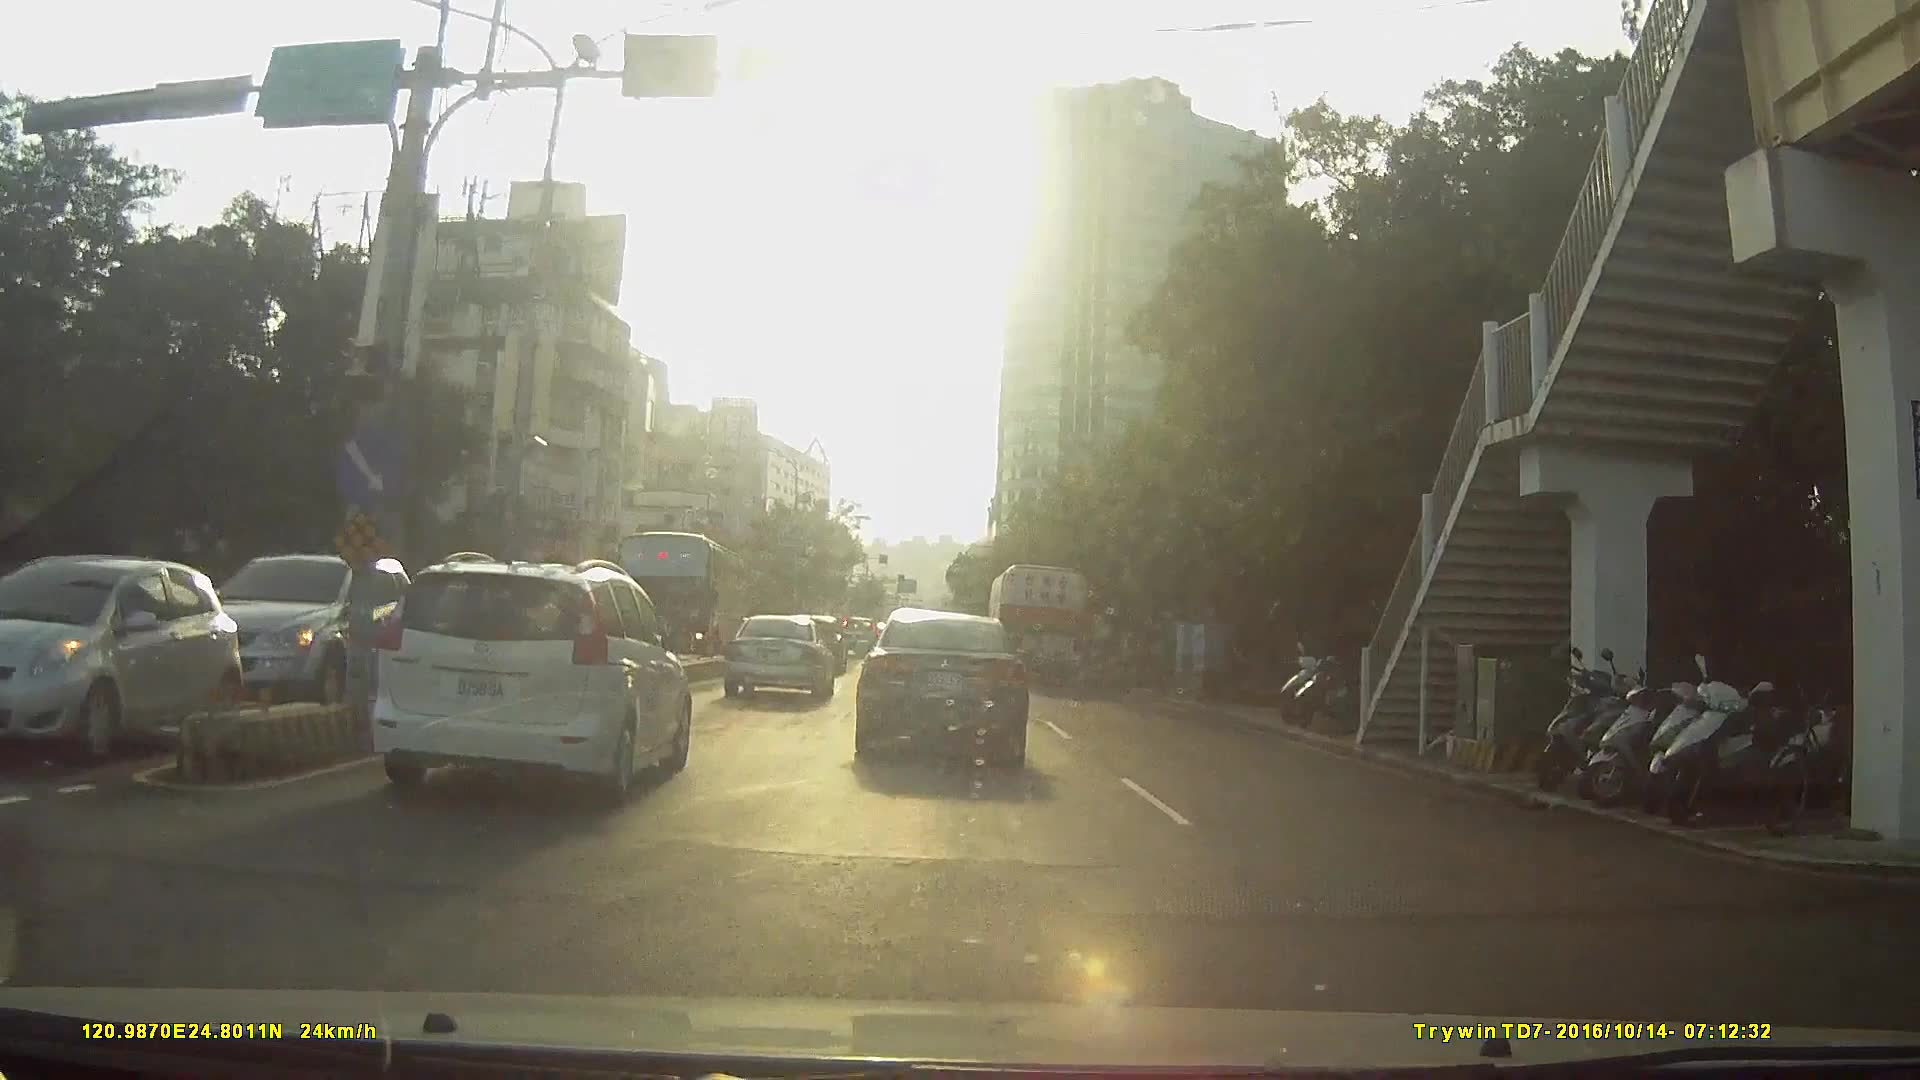vehicle: (251, 556, 684, 868), (371, 549, 694, 802), (162, 545, 446, 723), (0, 546, 203, 771), (855, 603, 1030, 773), (607, 527, 744, 659), (986, 562, 1092, 691), (724, 615, 835, 705), (836, 615, 884, 658)
